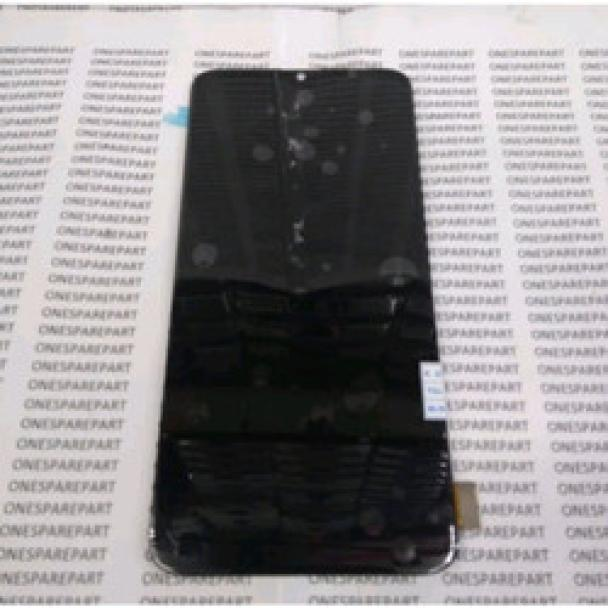Handphone: (147, 67, 455, 567)
